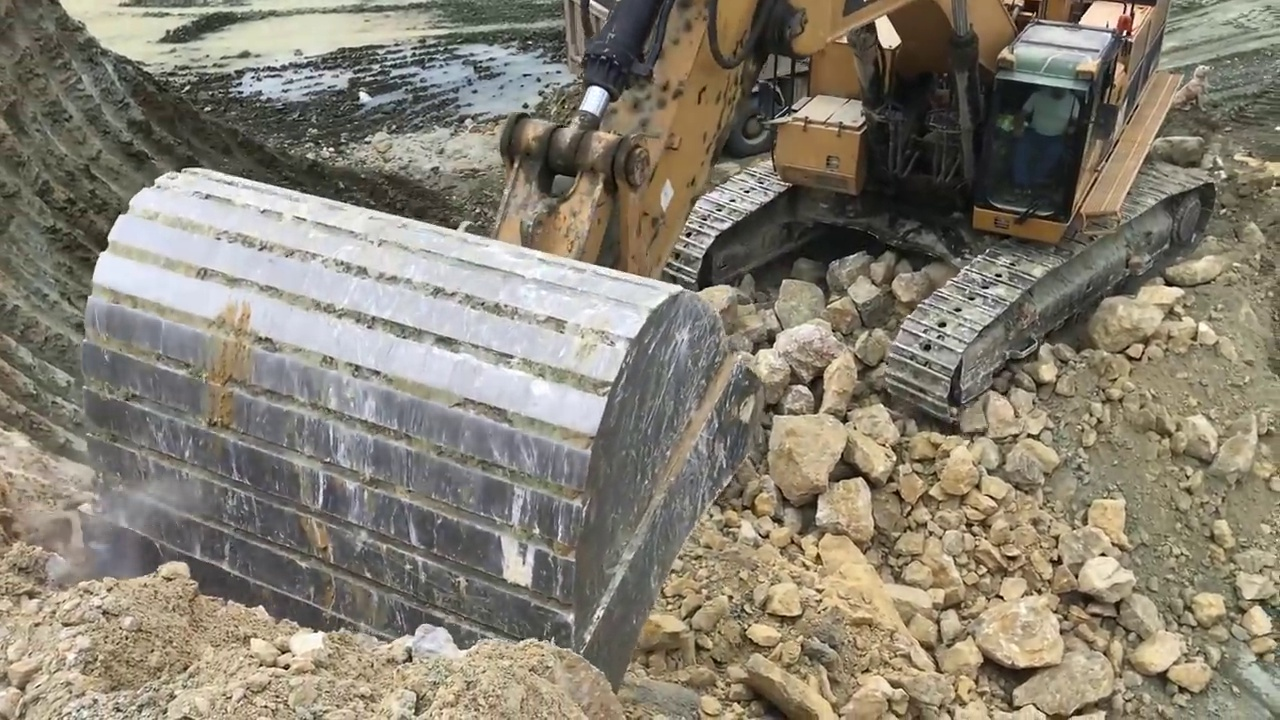excavator: (76, 2, 1232, 710)
